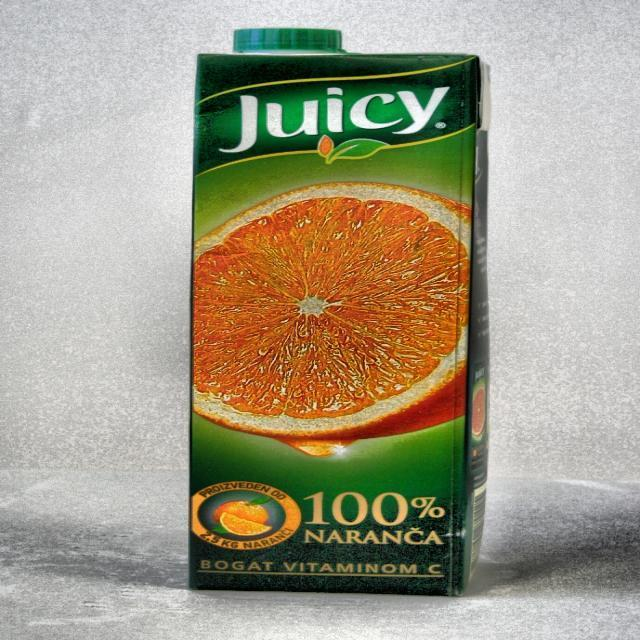cardboard: (188, 34, 492, 596)
